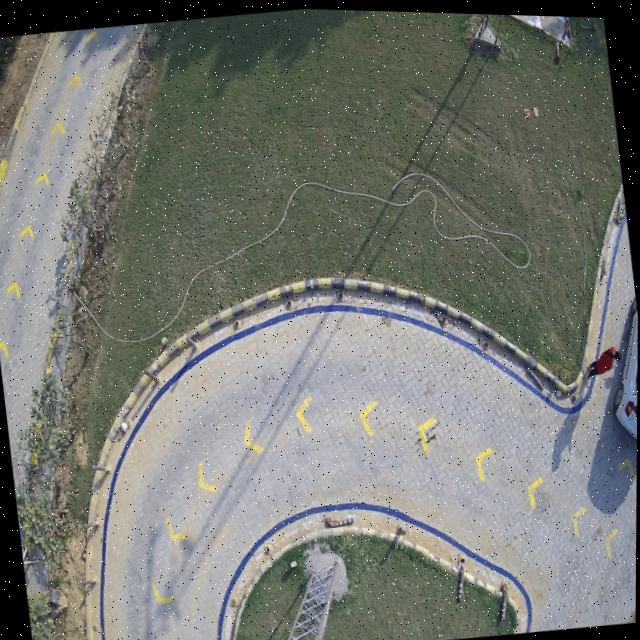car: (613, 303, 638, 436)
